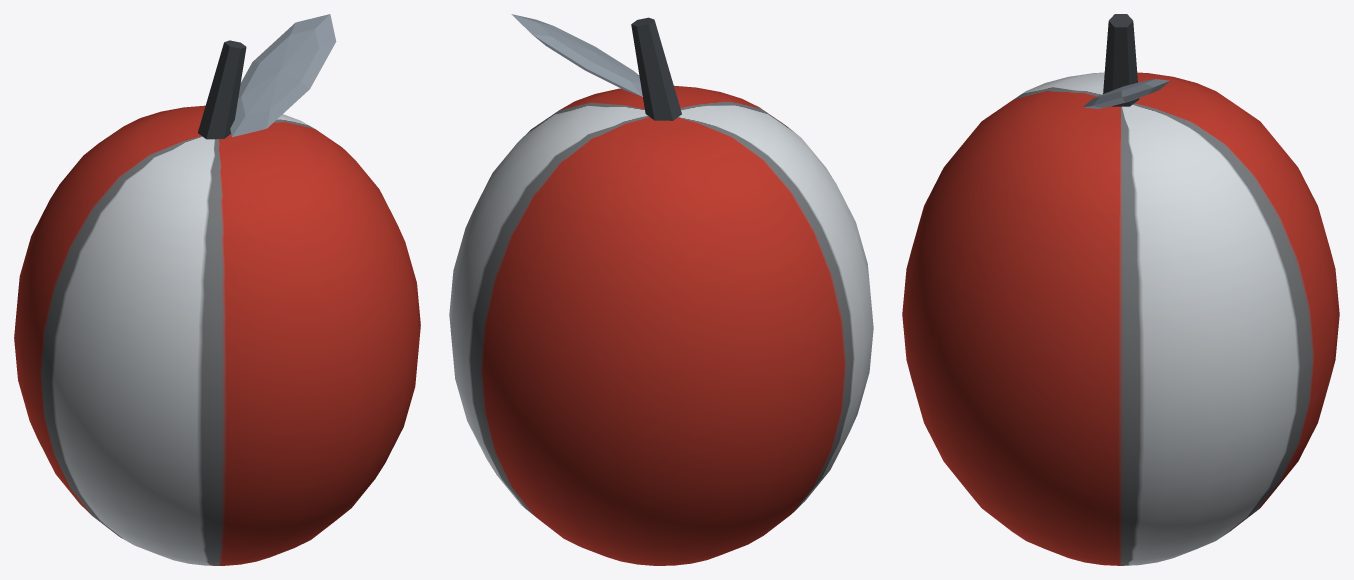
File: Fruit_Magnet.fbx
The picture shows the model from 3 angles, left to right: view 1: azimuth 30°, elevation 25°; view 2: azimuth 150°, elevation 25°; view 3: azimuth 270°, elevation 25°; orthographic projection. The views are drawn at different scales.
Visible parts, largest first — view 1: Fruit_Magnet; view 2: Fruit_Magnet; view 3: Fruit_Magnet.
Boxes of the visible parts, x1,y1,x2,y2 form: Fruit_Magnet: [14, 14, 420, 565]; Fruit_Magnet: [449, 14, 873, 565]; Fruit_Magnet: [902, 14, 1339, 565].
Size of the model in its own units: 1.6 by 2.18 by 1.6.
Materials: 1 (1 with a texture image).
